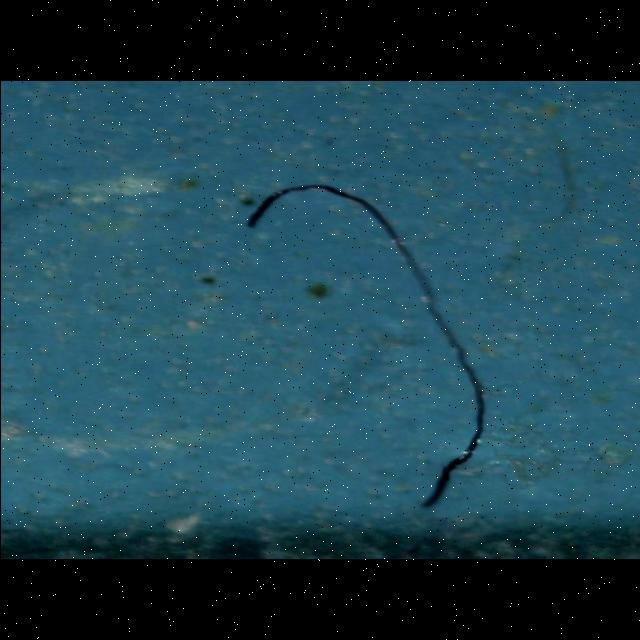Fibre: (242, 184, 486, 508)
